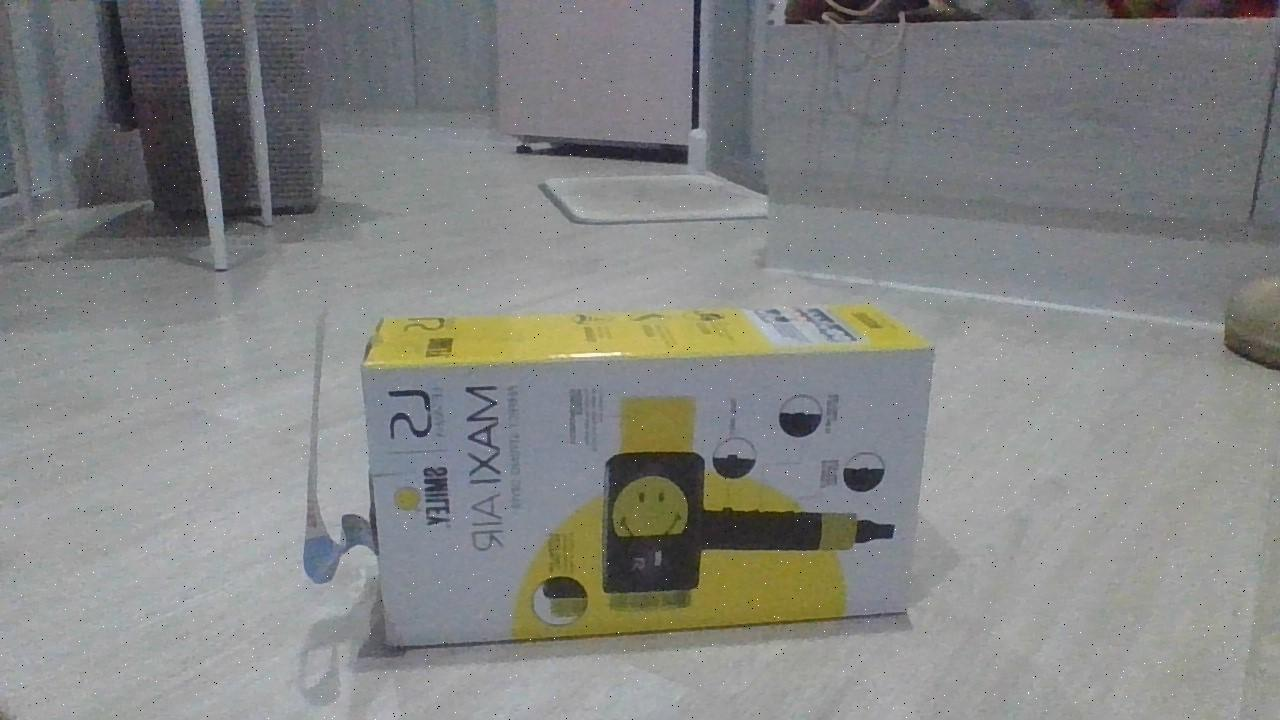IRON: (356, 297, 940, 653)
